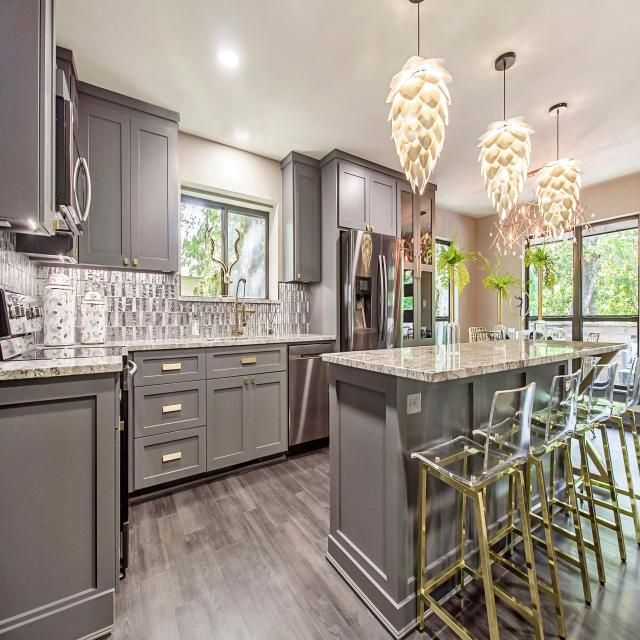Appliance_Dishwasher: (285, 338, 338, 449)
Appliance_Fridge: (340, 230, 401, 352)
Appliance_Microwave: (53, 65, 91, 237)
Appliance_Oven: (0, 289, 129, 575)
Appliance_Sink: (231, 277, 248, 336)
Cabinet_Glass: (399, 183, 436, 347)
Cabinet_Inset: (127, 346, 289, 494), (79, 86, 180, 273), (337, 160, 399, 238), (293, 156, 321, 284)
Countertop_Marble: (320, 340, 627, 383), (105, 335, 337, 351), (0, 356, 124, 381)
